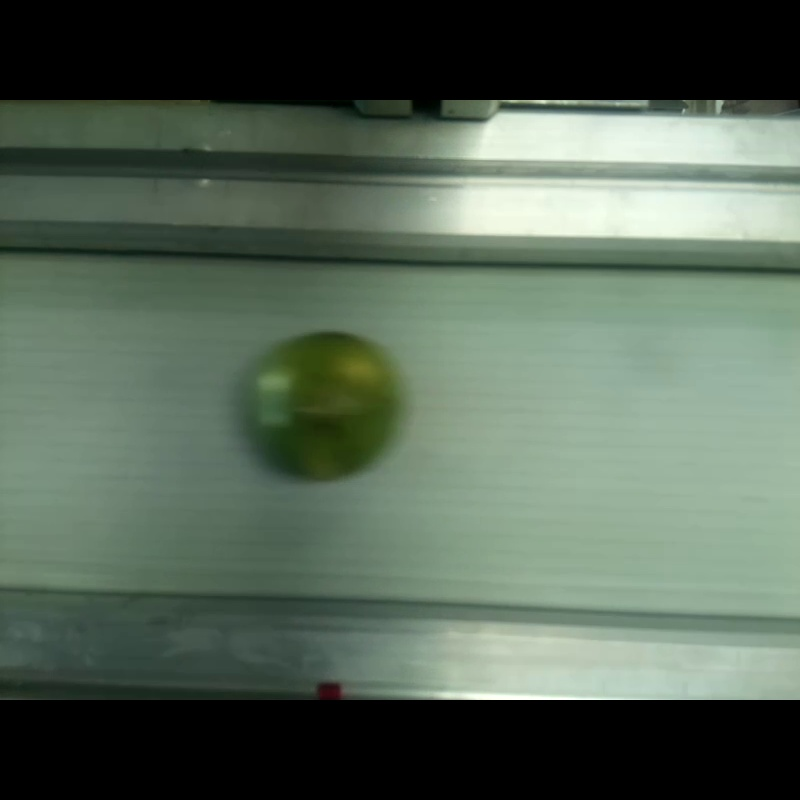lime: (247, 330, 403, 482)
